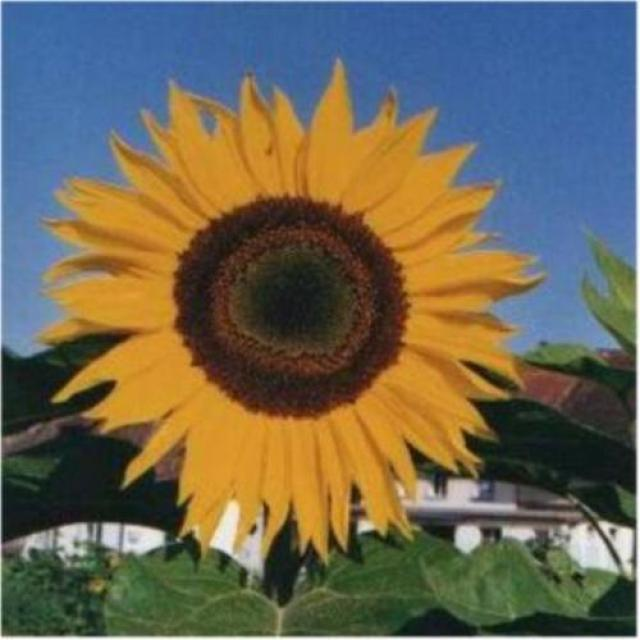sunflower: (37, 52, 560, 565)
